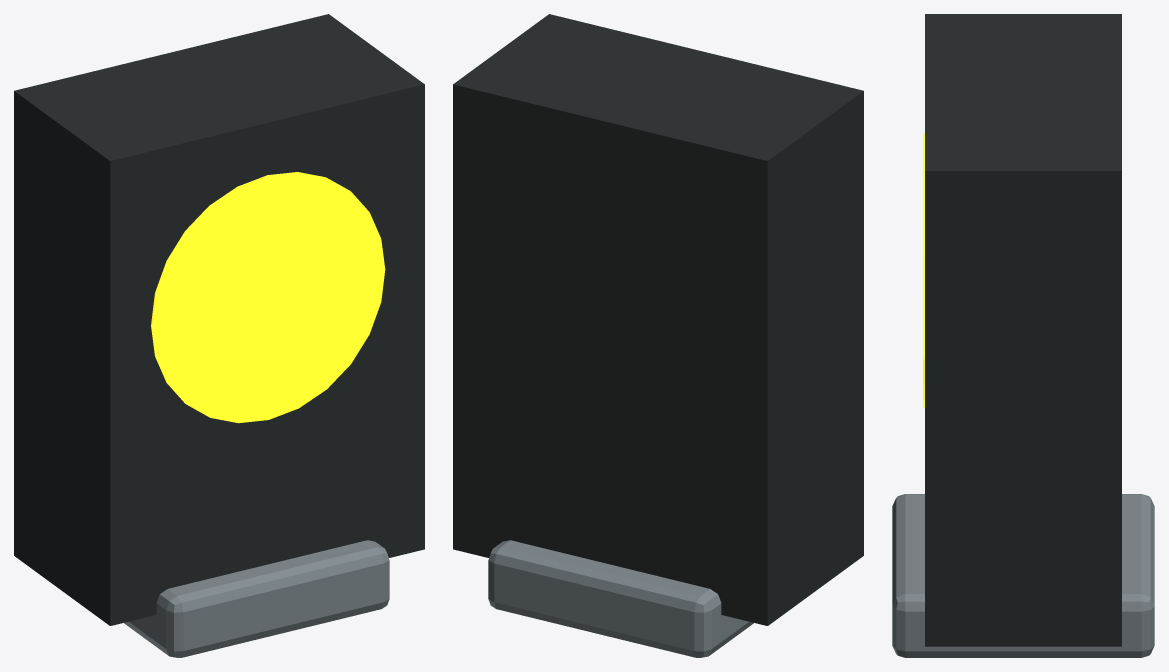
File: SIMUS_Barricade_WarningLight.fbx
3 views of the same model, side by side, from view 1: azimuth 30°, elevation 25°; view 2: azimuth 150°, elevation 25°; view 3: azimuth 270°, elevation 25° (orthographic). The views are drawn at different scales.
Parts seen in each view (by area): view 1: COL_WARNING, WARNING_EMITTER, WARNING_MOUNT_CLAMP; view 2: COL_WARNING, WARNING_MOUNT_CLAMP; view 3: COL_WARNING, WARNING_MOUNT_CLAMP, WARNING_EMITTER.
Part boxes in pixels (x1,y1,x2,y2): COL_WARNING: (14,14,424,625); WARNING_EMITTER: (151,172,385,423); WARNING_MOUNT_CLAMP: (124,540,389,657); COL_WARNING: (453,14,863,625); WARNING_MOUNT_CLAMP: (488,540,753,657); COL_WARNING: (925,14,1121,646); WARNING_MOUNT_CLAMP: (892,494,1154,657); WARNING_EMITTER: (923,133,924,407).
Size of the model in its own units: 17 by 26 by 12.
